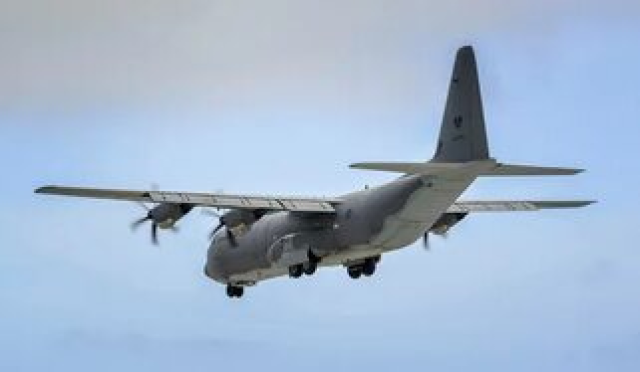military drone: (34, 45, 599, 298)
